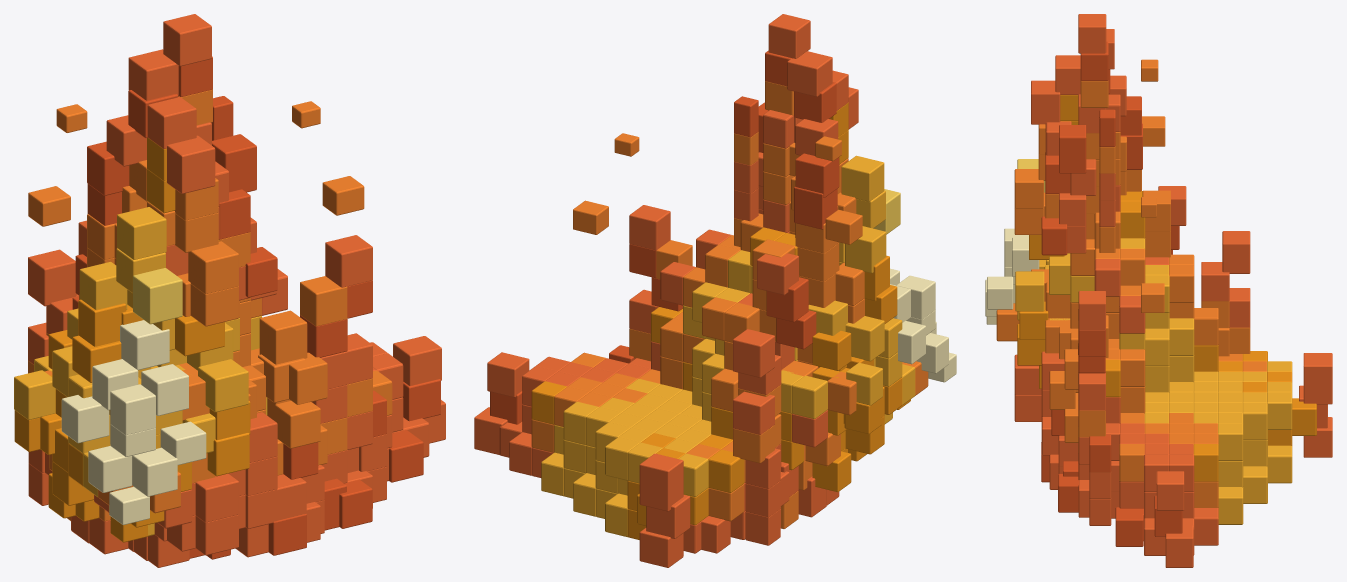
The model's file is SM_Blender_Ember.glb.
3 renders of one model, left to right at view 1: azimuth 30°, elevation 25°; view 2: azimuth 150°, elevation 25°; view 3: azimuth 270°, elevation 25°, orthographic. The views are drawn at different scales.
Visible parts, largest first — view 1: SM_Blender_Ember; view 2: SM_Blender_Ember; view 3: SM_Blender_Ember.
Part boxes in pixels (x1,y1,x2,y2): SM_Blender_Ember: (14, 14, 445, 567); SM_Blender_Ember: (474, 14, 956, 567); SM_Blender_Ember: (985, 14, 1332, 567).
Size of the model in its own units: 1.18 by 1.35 by 0.9914.
Materials: 1 (1 with a texture image).
